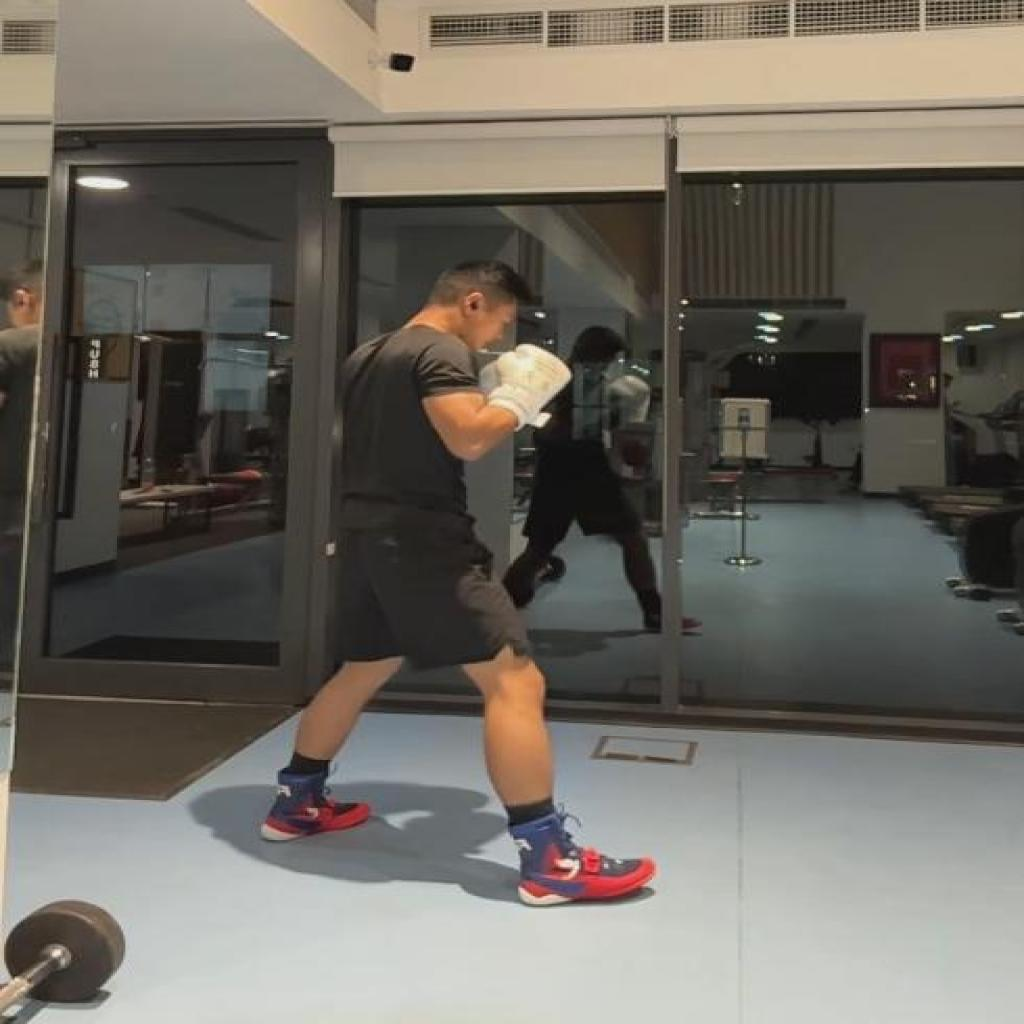no punch: (259, 256, 658, 914)
